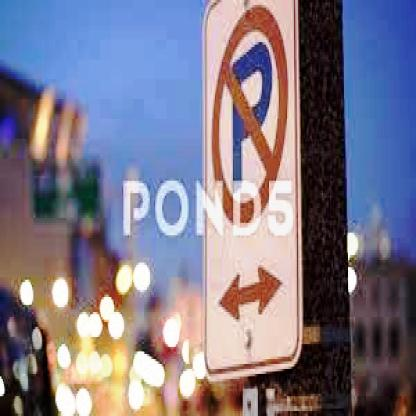No parking: (208, 6, 287, 224)
